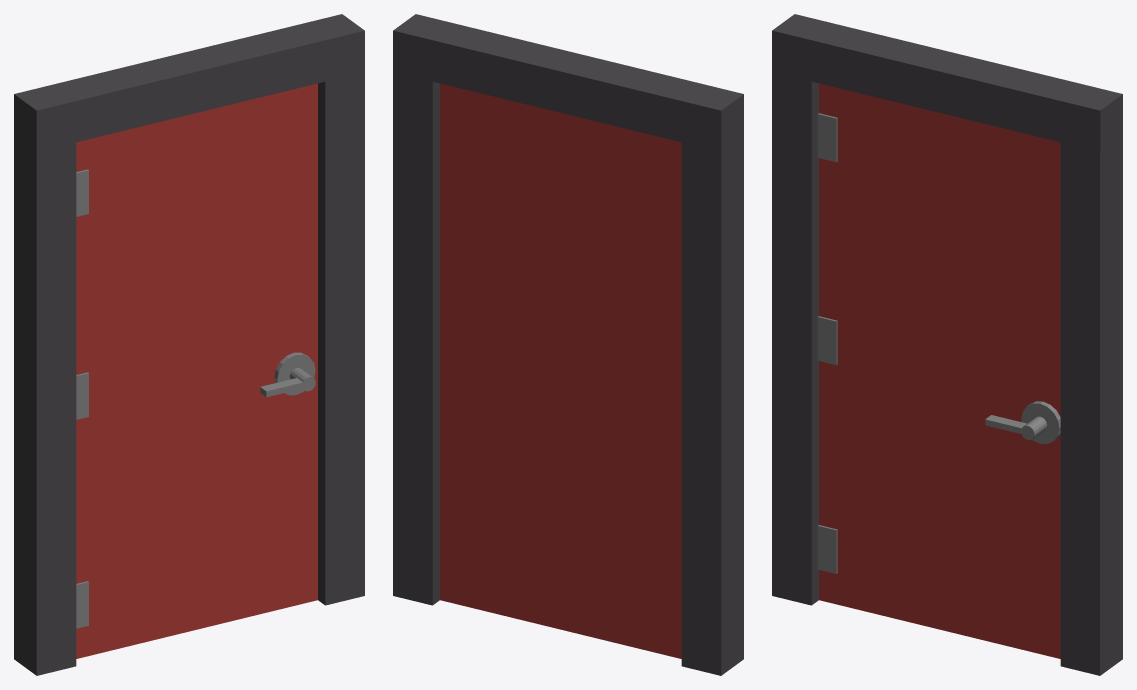
Rendered from Door.fbx.
3 views of the same model, side by side, from view 1: azimuth 30°, elevation 25°; view 2: azimuth 150°, elevation 25°; view 3: azimuth 330°, elevation 25° (orthographic).
Visible parts, largest first — view 1: Cube.033; view 2: Cube.033; view 3: Cube.033.
Part boxes in pixels (box(x1,y1,x2,y2)): Cube.033: box(14, 14, 364, 675); Cube.033: box(393, 14, 743, 675); Cube.033: box(772, 14, 1122, 675).
Bounding box in the file's own units: 485 × 799 × 79.31.
